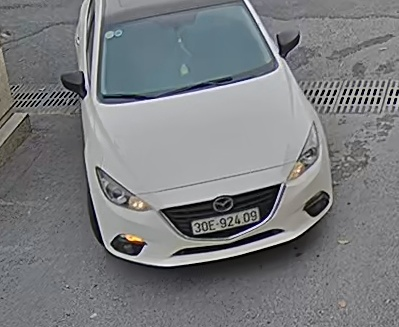vehicle plate: (184, 204, 272, 235)
